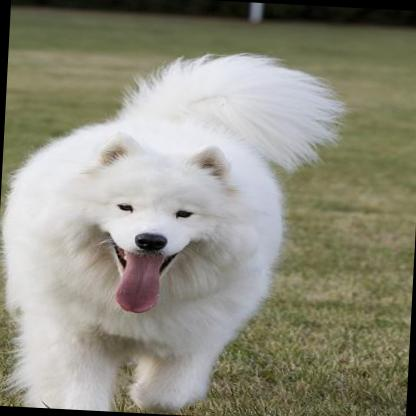Samoyed: (0, 35, 340, 416)
